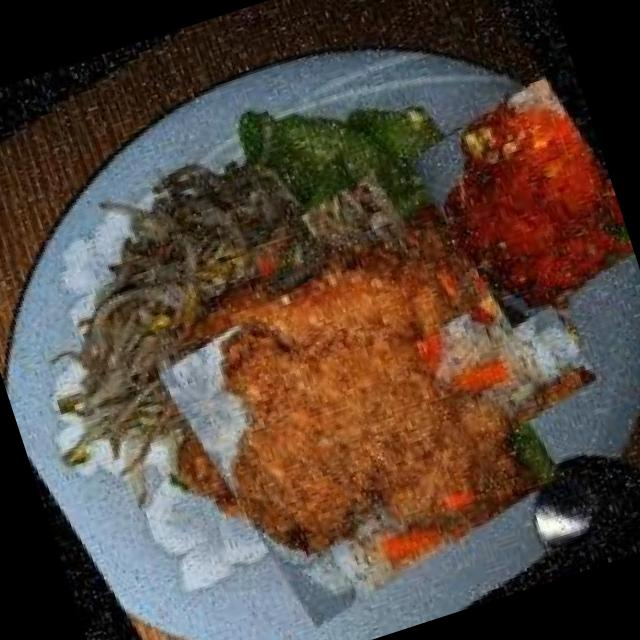carrot_eggs: (395, 66, 640, 343)
fried_chicken: (97, 152, 592, 640)
mung_bean_sprouts: (14, 138, 352, 418)
rice: (406, 258, 608, 461)
